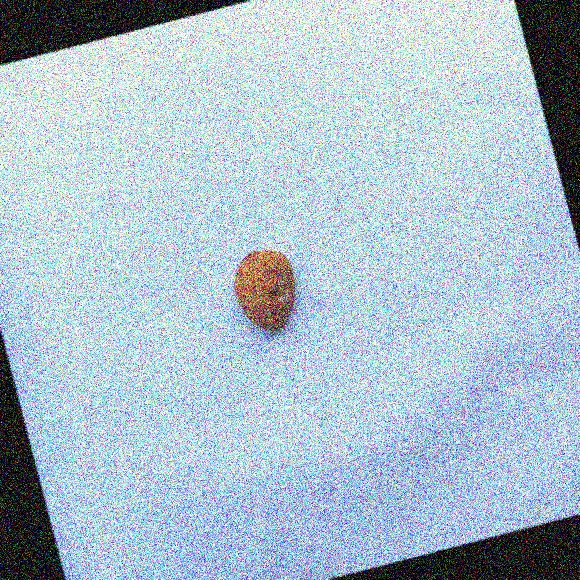grade3: (224, 238, 312, 342)
